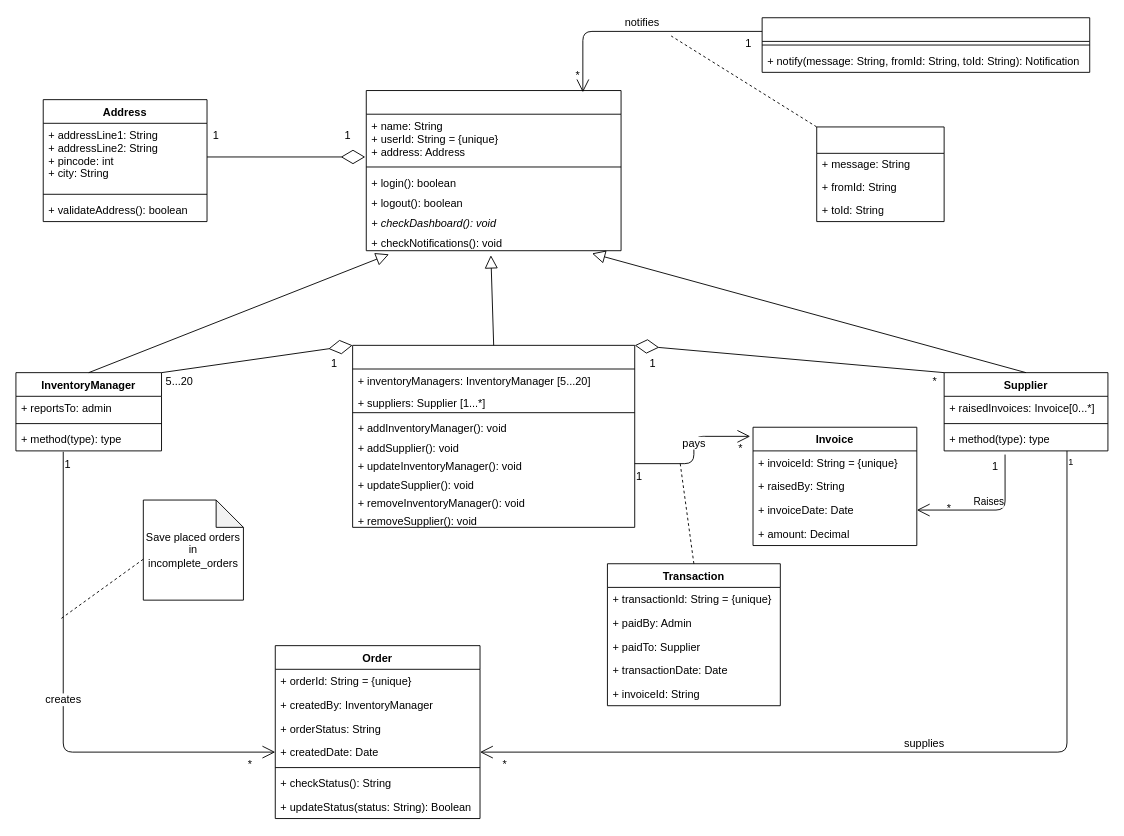
Some shapes in this 1124 by 836 pixel diagram are drawn without their labels. The shapes that lost their labels are listed below. From the top down, each one's box as (x1, y1, x2, y2) in pixels, then its label:
(761, 17, 1090, 72): NotificationService
(365, 90, 621, 251): SystemUser
(816, 126, 944, 222): Notification
(352, 344, 635, 527): Admin
